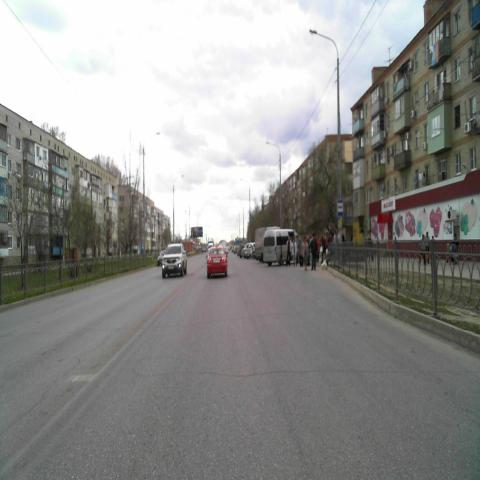5_16: (337, 200, 343, 216)
